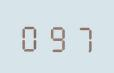nine: (44, 19, 68, 53)
seven: (69, 20, 93, 53)
zero: (18, 19, 42, 52)
